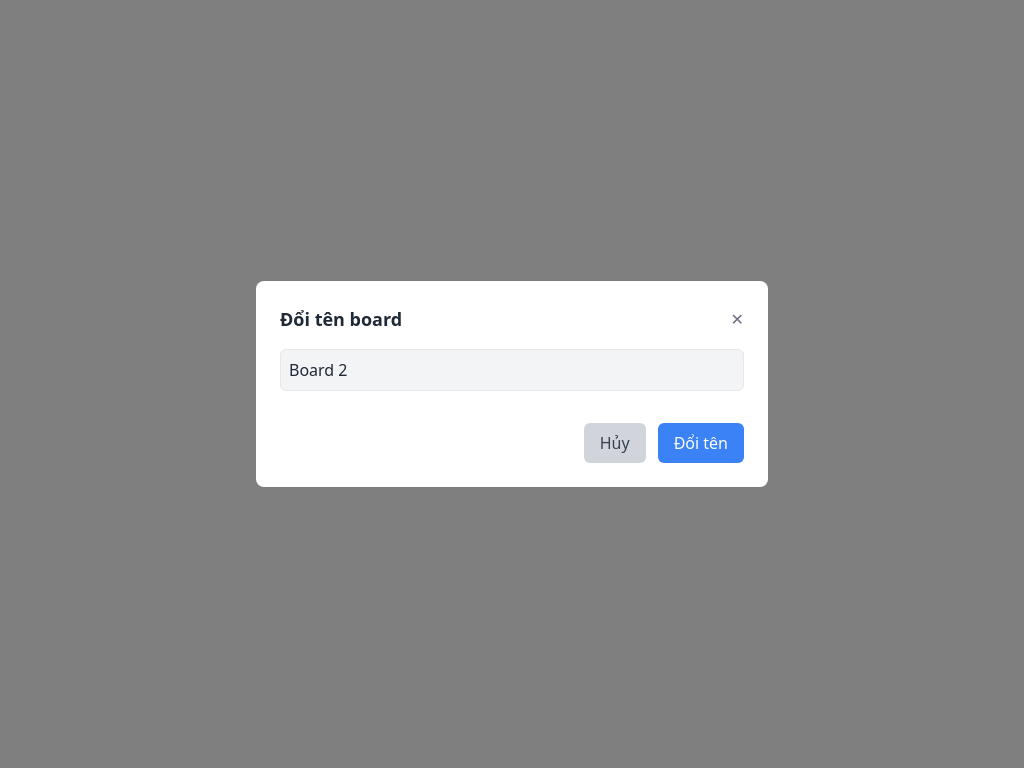
RenameModal › hiển thị lỗi khi submit rỗng
Clear the field with placeholder "Nhập tên mới..." at point(512, 370), box [280, 349, 744, 391]
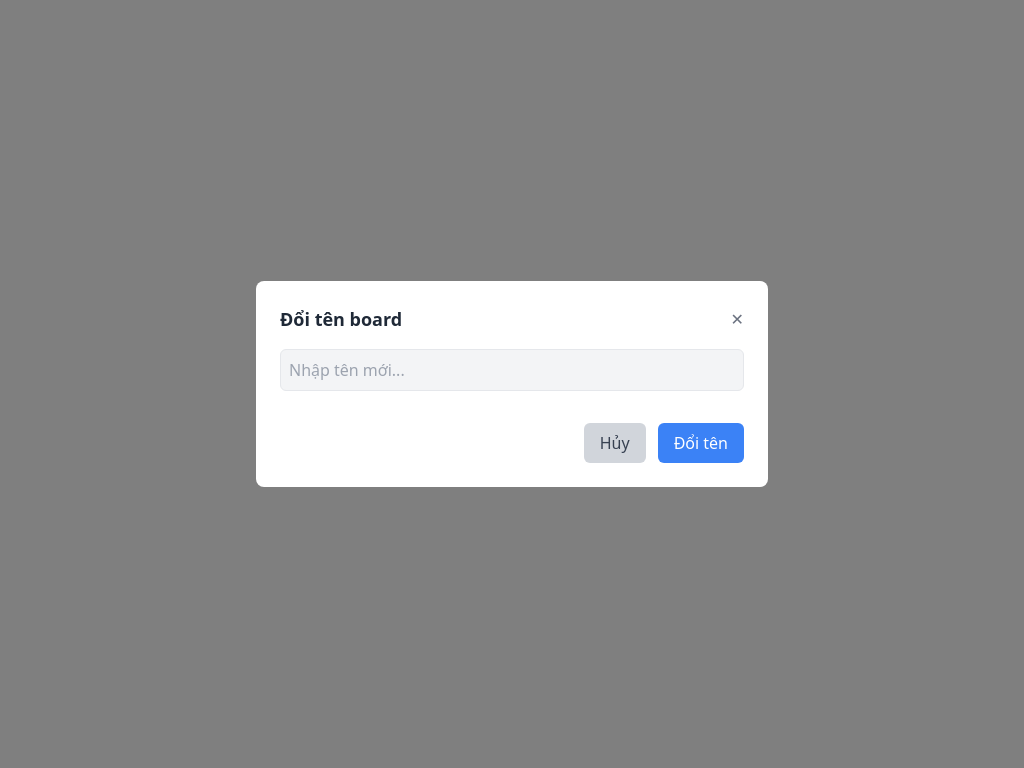
Click the button with test id "submit-rename-btn".
click(701, 443)  # box [658, 423, 744, 463]
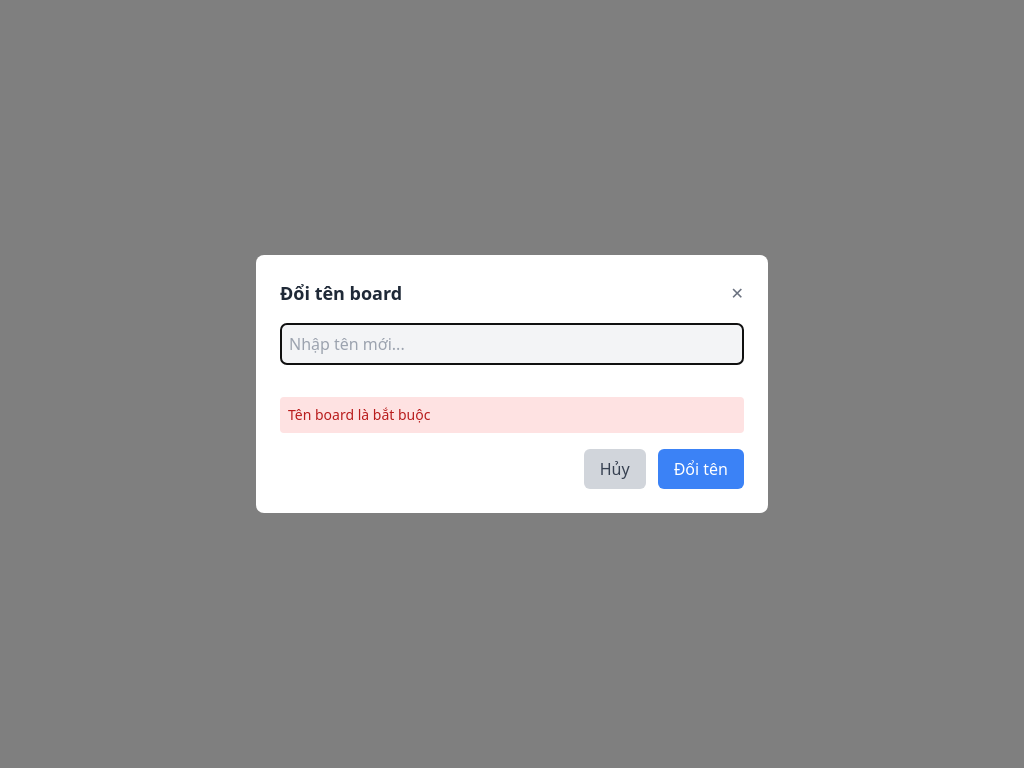
Now the text "Tên board là bắt buộc" is shown, box [288, 405, 430, 424]
